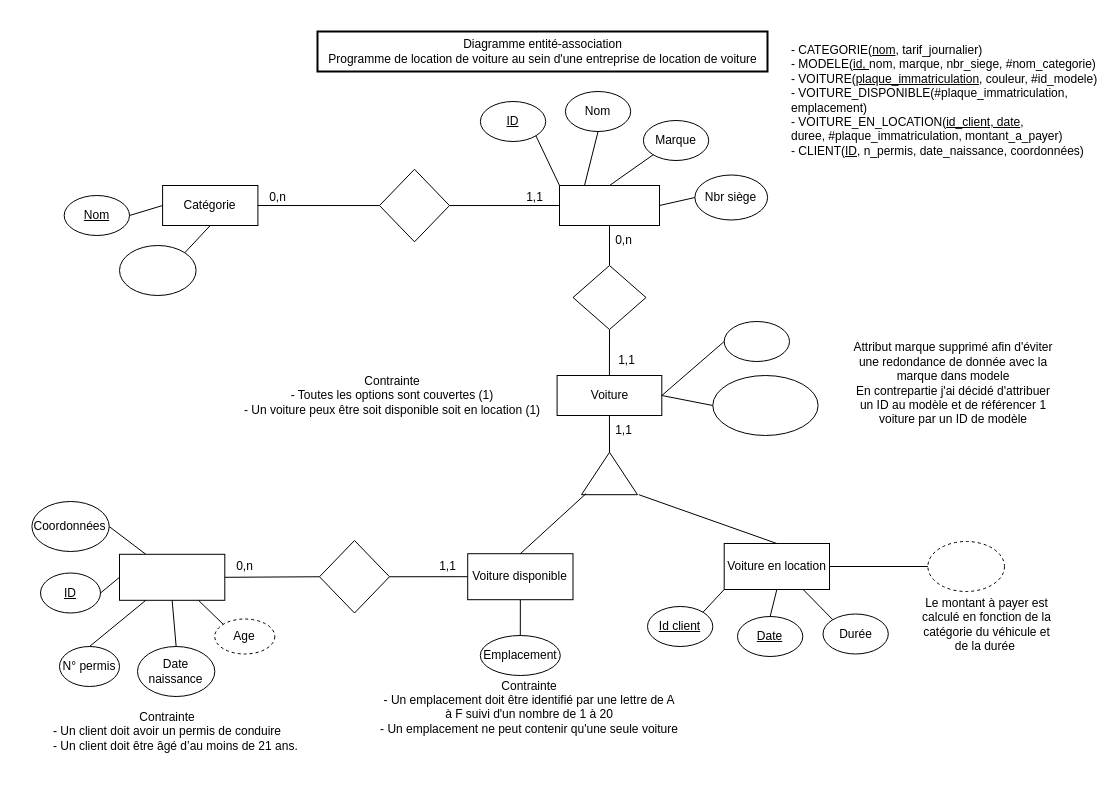
This 1118x789 diagram has some shape labels left out. The shapes that lost their labels are listed below. From the top down, each one's centre as x and y in pixels, then its label:
At [414,205]: "Appartenir".
At [609,205]: "Modèle".
At [157,270]: "Tarif journalier".
At [609,297]: "Posseder".
At [756,341]: "Couleur".
At [765,405]: "Plaque immatriculation".
At [609,473]: "Is-a".
At [171,576]: "Client".
At [354,576]: "Louer".
At [965,566]: "Montant à payer".
